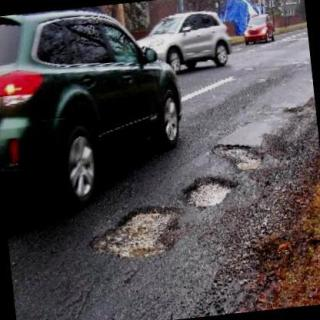pothole: (90, 208, 185, 258), (180, 177, 235, 209), (212, 144, 266, 170)
